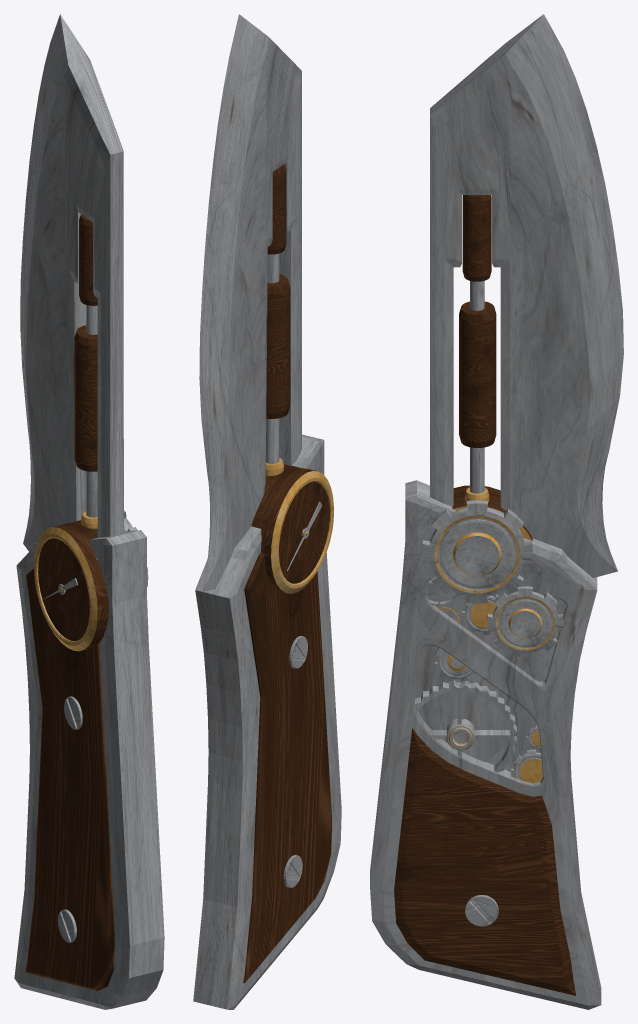
Rendered from Dagger.fbx.
3 renders of one model, left to right at view 1: azimuth 30°, elevation 25°; view 2: azimuth 150°, elevation 25°; view 3: azimuth 270°, elevation 25°, orthographic.
Parts seen in each view (by area): view 1: Cube.010, Cube.009, Cylinder.050, Cylinder.046, Cylinder.047, Cylinder.045, Cylinder.057, Cylinder.054; view 2: Cube.010, Cube.009, Cylinder.050, Cylinder.046, Cylinder.047, Cylinder.045, Cylinder.057, Cylinder.054; view 3: Cube.010, Cube.009, Cylinder.049, Cylinder.046, Cylinder.053, Cylinder.058, Cylinder.047, Cylinder.051, Cylinder.045, Cylinder.057, Cylinder.055, Cylinder.060 (+4 smaller).
Boxes of the visible parts, x1=… form: Cube.010: x1=14, y1=530, x2=164, y2=1009; Cube.009: x1=20, y1=14, x2=123, y2=551; Cylinder.050: x1=34, y1=520, x2=108, y2=651; Cylinder.046: x1=74, y1=325, x2=97, y2=471; Cylinder.047: x1=79, y1=214, x2=97, y2=305; Cylinder.045: x1=86, y1=305, x2=97, y2=517; Cylinder.057: x1=57, y1=909, x2=76, y2=942; Cylinder.054: x1=64, y1=696, x2=82, y2=729; Cube.010: x1=193, y1=434, x2=341, y2=1009; Cube.009: x1=199, y1=14, x2=301, y2=591; Cylinder.050: x1=251, y1=464, x2=333, y2=593; Cylinder.046: x1=266, y1=274, x2=290, y2=418; Cylinder.047: x1=267, y1=163, x2=286, y2=254; Cylinder.045: x1=266, y1=253, x2=279, y2=463; Cylinder.057: x1=283, y1=855, x2=302, y2=887; Cylinder.054: x1=289, y1=636, x2=307, y2=668; Cube.010: x1=370, y1=480, x2=601, y2=1009; Cube.009: x1=430, y1=14, x2=623, y2=577; Cylinder.049: x1=422, y1=500, x2=532, y2=603; Cylinder.046: x1=459, y1=301, x2=496, y2=447; Cylinder.053: x1=487, y1=586, x2=563, y2=657; Cylinder.058: x1=415, y1=680, x2=516, y2=772; Cylinder.047: x1=462, y1=195, x2=491, y2=281; Cylinder.051: x1=453, y1=532, x2=501, y2=576; Cylinder.045: x1=470, y1=281, x2=484, y2=493; Cylinder.057: x1=465, y1=895, x2=498, y2=926; Cylinder.055: x1=462, y1=594, x2=498, y2=634; Cylinder.060: x1=511, y1=749, x2=542, y2=783.
Bounding box in the file's own units: 92.61 × 1309 × 305.
